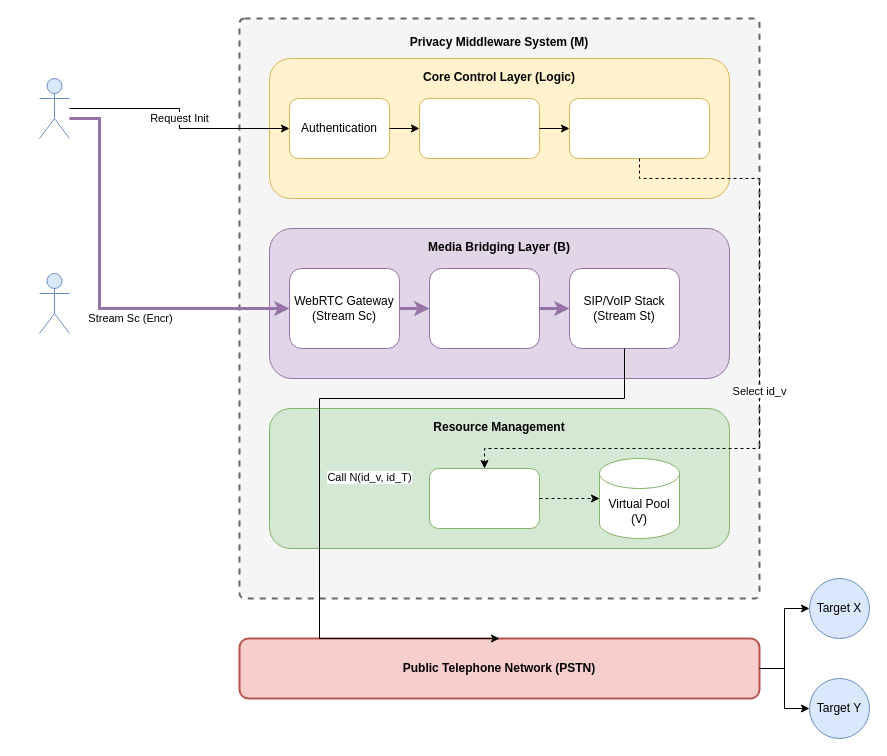
Image size: 887x756. Some labels were removed from this diagram. The shapes that lost their labels are listed below. From the top down, each one's centre as x and y in pixels, then its label:
the point at 54,108: Caller A (App)
the point at 479,128: Session Decoupling
the point at 639,128: Identity Transform (Φ)
the point at 54,303: Caller B (App)
the point at 484,308: Bridging Engine (Stitch Streams)
the point at 484,498: Selection Policy
